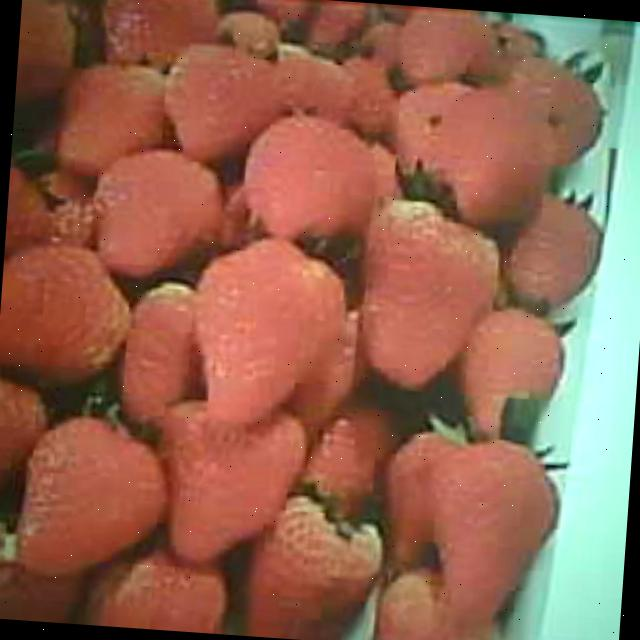strawberry: (188, 236, 348, 430), (357, 200, 501, 390), (14, 412, 171, 582), (424, 434, 559, 628)
